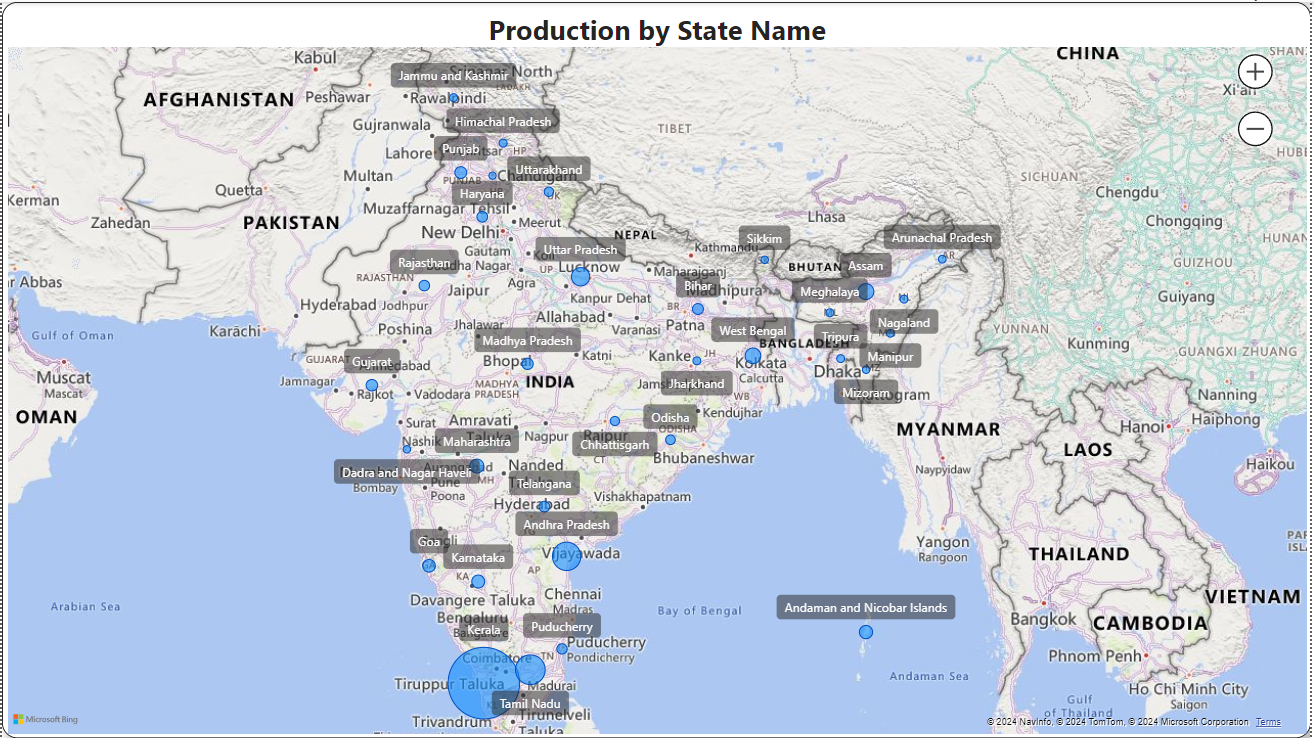

The page's visual inventory and layout, read from the dashboard file:
{"tool":"powerbi","page":{"name":"Production ","canvas":[1280,720],"ordinal":1},"visuals":[{"type":"map","title":"Production by State Name","fields":{"Category":["apy_1.State_Name"],"Size":["apy_1.total production"]},"box":[0,0,1280,720],"z":0}]}

Visuals, with their boxes in screenshot pixels (x1, y1, x2, y2), scaled from the page's 1280x720 canvas onto the 1314x738 screenshot:
"Production by State Name" map: 0 0 1313 737
